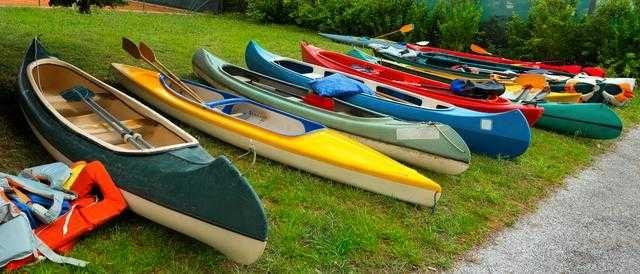kayak: (16, 35, 269, 268), (110, 43, 445, 209), (219, 41, 525, 166), (312, 41, 621, 131), (0, 159, 127, 269), (392, 41, 611, 83), (532, 101, 625, 139)
